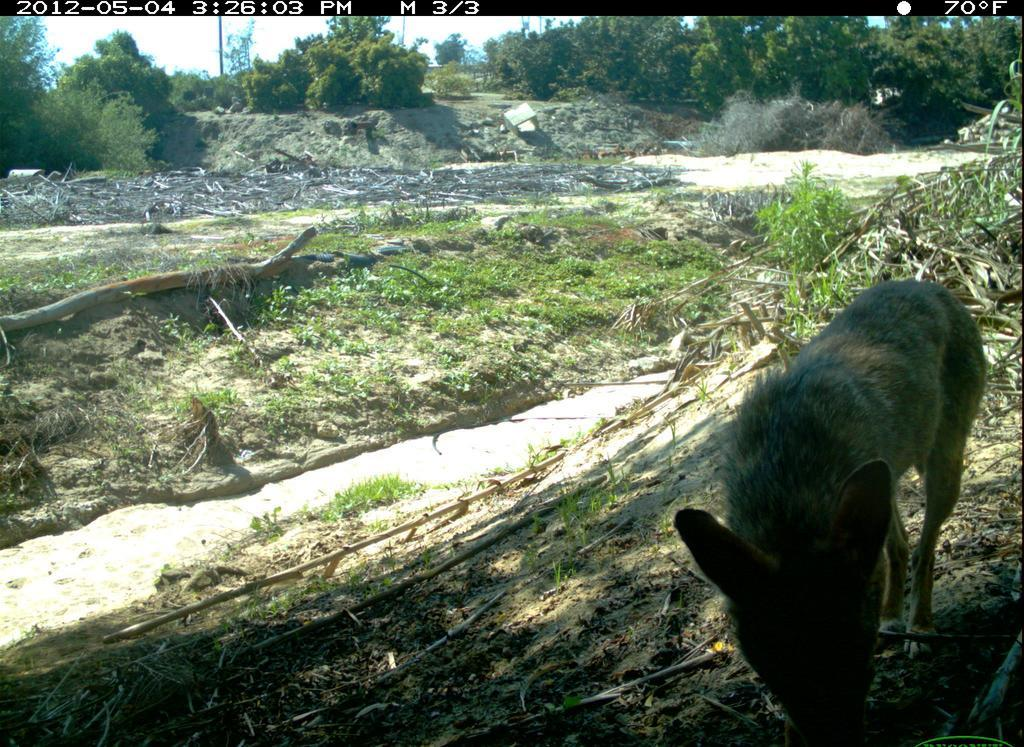coyote: (667, 269, 995, 747)
